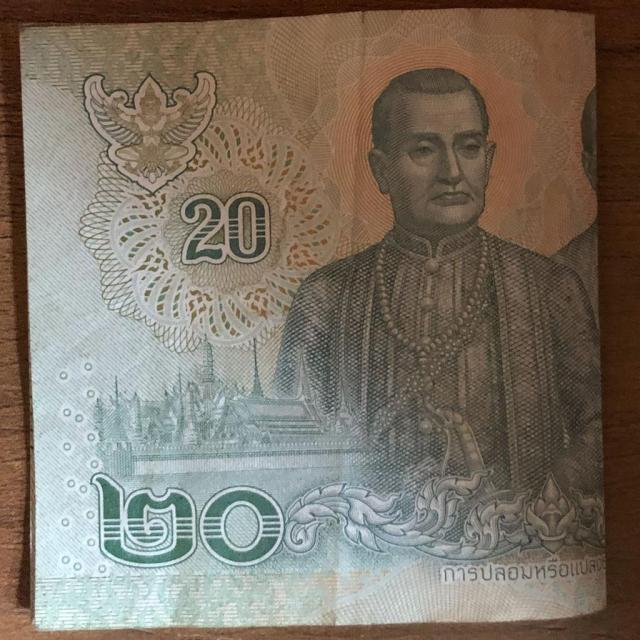THAI20: (20, 9, 605, 629)
